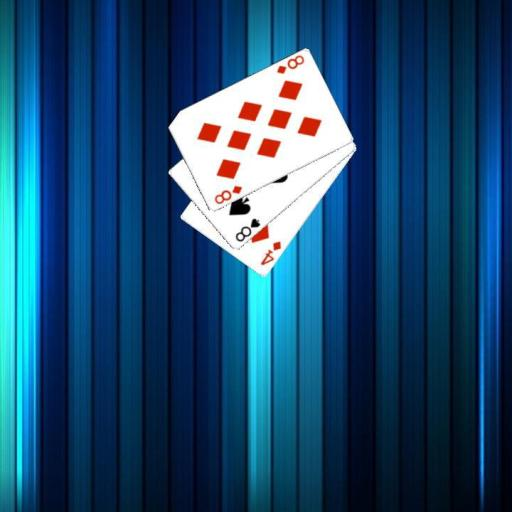4D: (257, 239, 283, 268)
8D: (211, 182, 244, 206), (273, 52, 306, 76)
8S: (232, 215, 262, 244)
